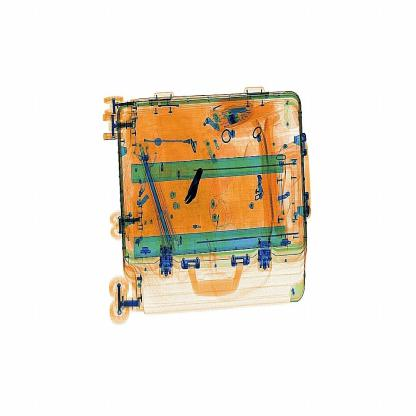knife: (182, 164, 206, 202)
